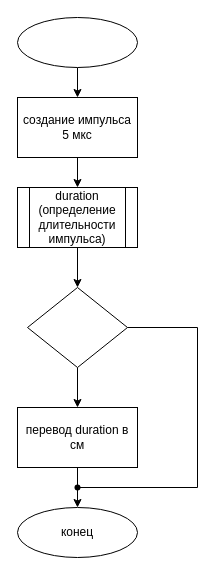
The diagram is 216 pixels wide and 575 high, and some of its shapes have lost their labels. The centre of each missing label's shape, as x and y in pixels:
distance: the point at 77,42
dutarion > 0: the point at 77,327
